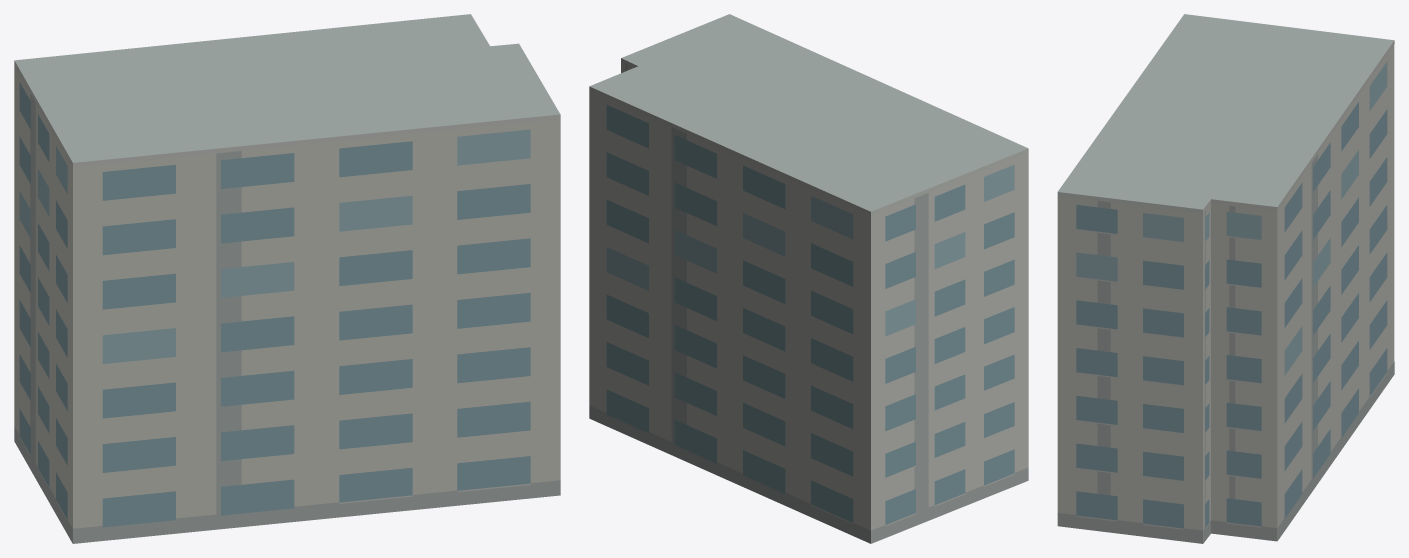
File: survey-upis-32871817.glb
The picture shows the model from 3 angles, left to right: view 1: azimuth 30°, elevation 25°; view 2: azimuth 150°, elevation 25°; view 3: azimuth 270°, elevation 25°; orthographic projection. The views are drawn at different scales.
Visible parts, largest first — view 1: survey-upis-32871817.tmp; view 2: survey-upis-32871817.tmp; view 3: survey-upis-32871817.tmp.
Boxes of the visible parts, x1,y1,x2,y2 form: survey-upis-32871817.tmp: (14,14,560,543); survey-upis-32871817.tmp: (589,14,1028,543); survey-upis-32871817.tmp: (1057,14,1394,543).
Size of the model in its own units: 24.6 by 19.59 by 17.9.
